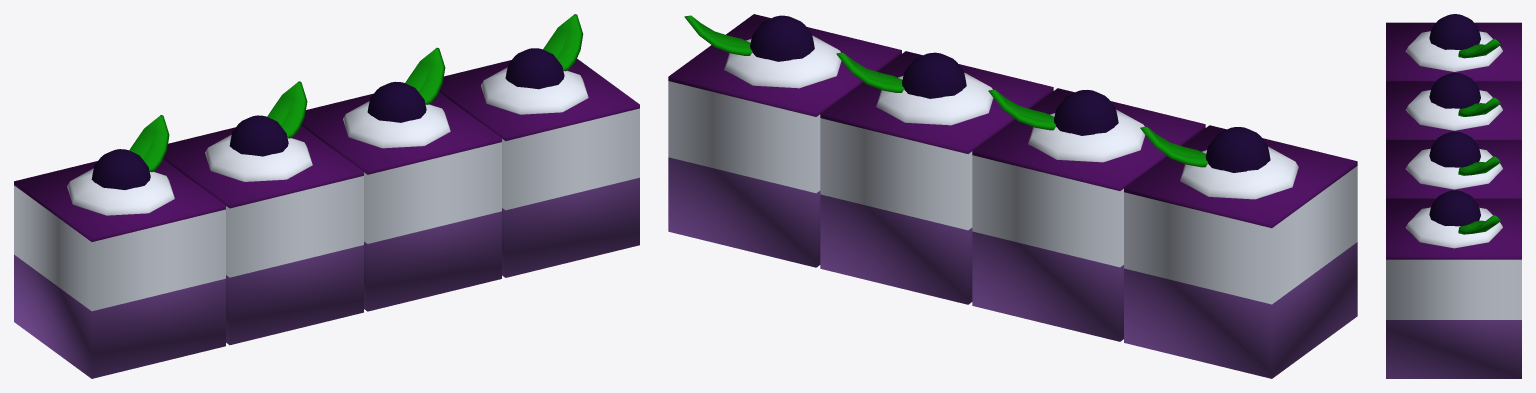
The model's file is cake_violet_4.fbx.
3 renders of one model, left to right at view 1: azimuth 30°, elevation 25°; view 2: azimuth 150°, elevation 25°; view 3: azimuth 270°, elevation 25°, orthographic. The views are drawn at different scales.
Visible parts, largest first — view 1: 立方体.025; view 2: 立方体.025; view 3: 立方体.025.
Boxes of the visible parts, x1,y1,x2,y2 form: 立方体.025: [14, 14, 639, 378]; 立方体.025: [668, 14, 1357, 378]; 立方体.025: [1386, 14, 1521, 378].
Size of the model in its own units: 59.49 by 19.22 by 14.6.
